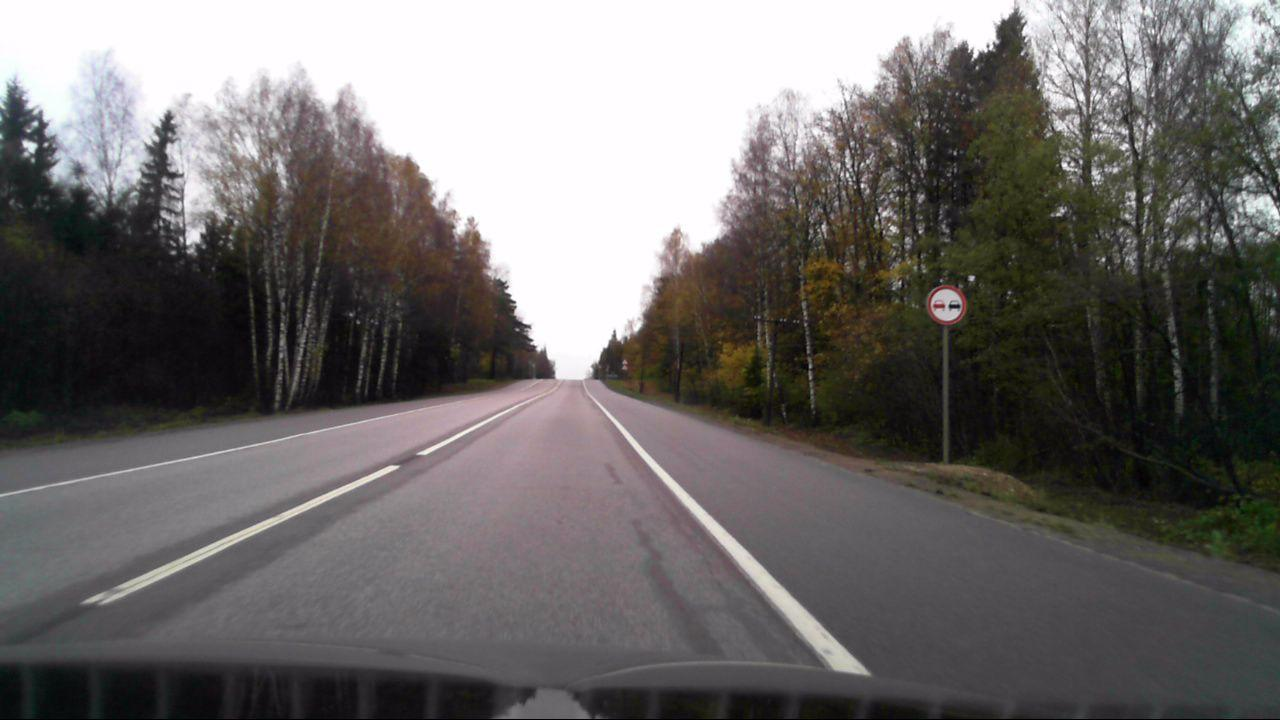3_20: (926, 285, 965, 326)
